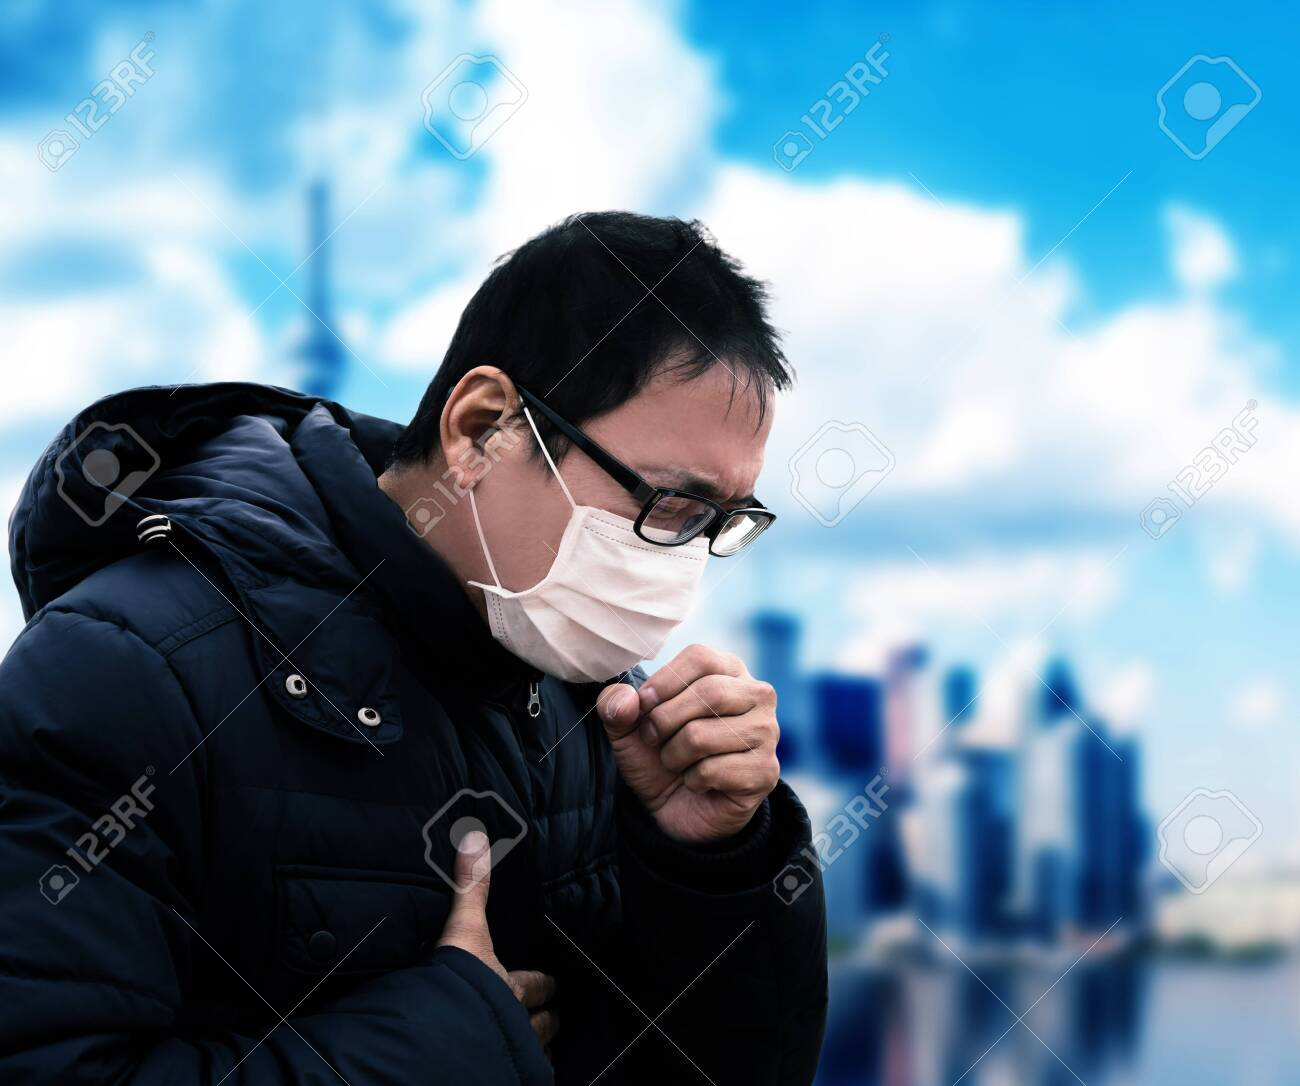with_mask: (458, 309, 783, 701)
